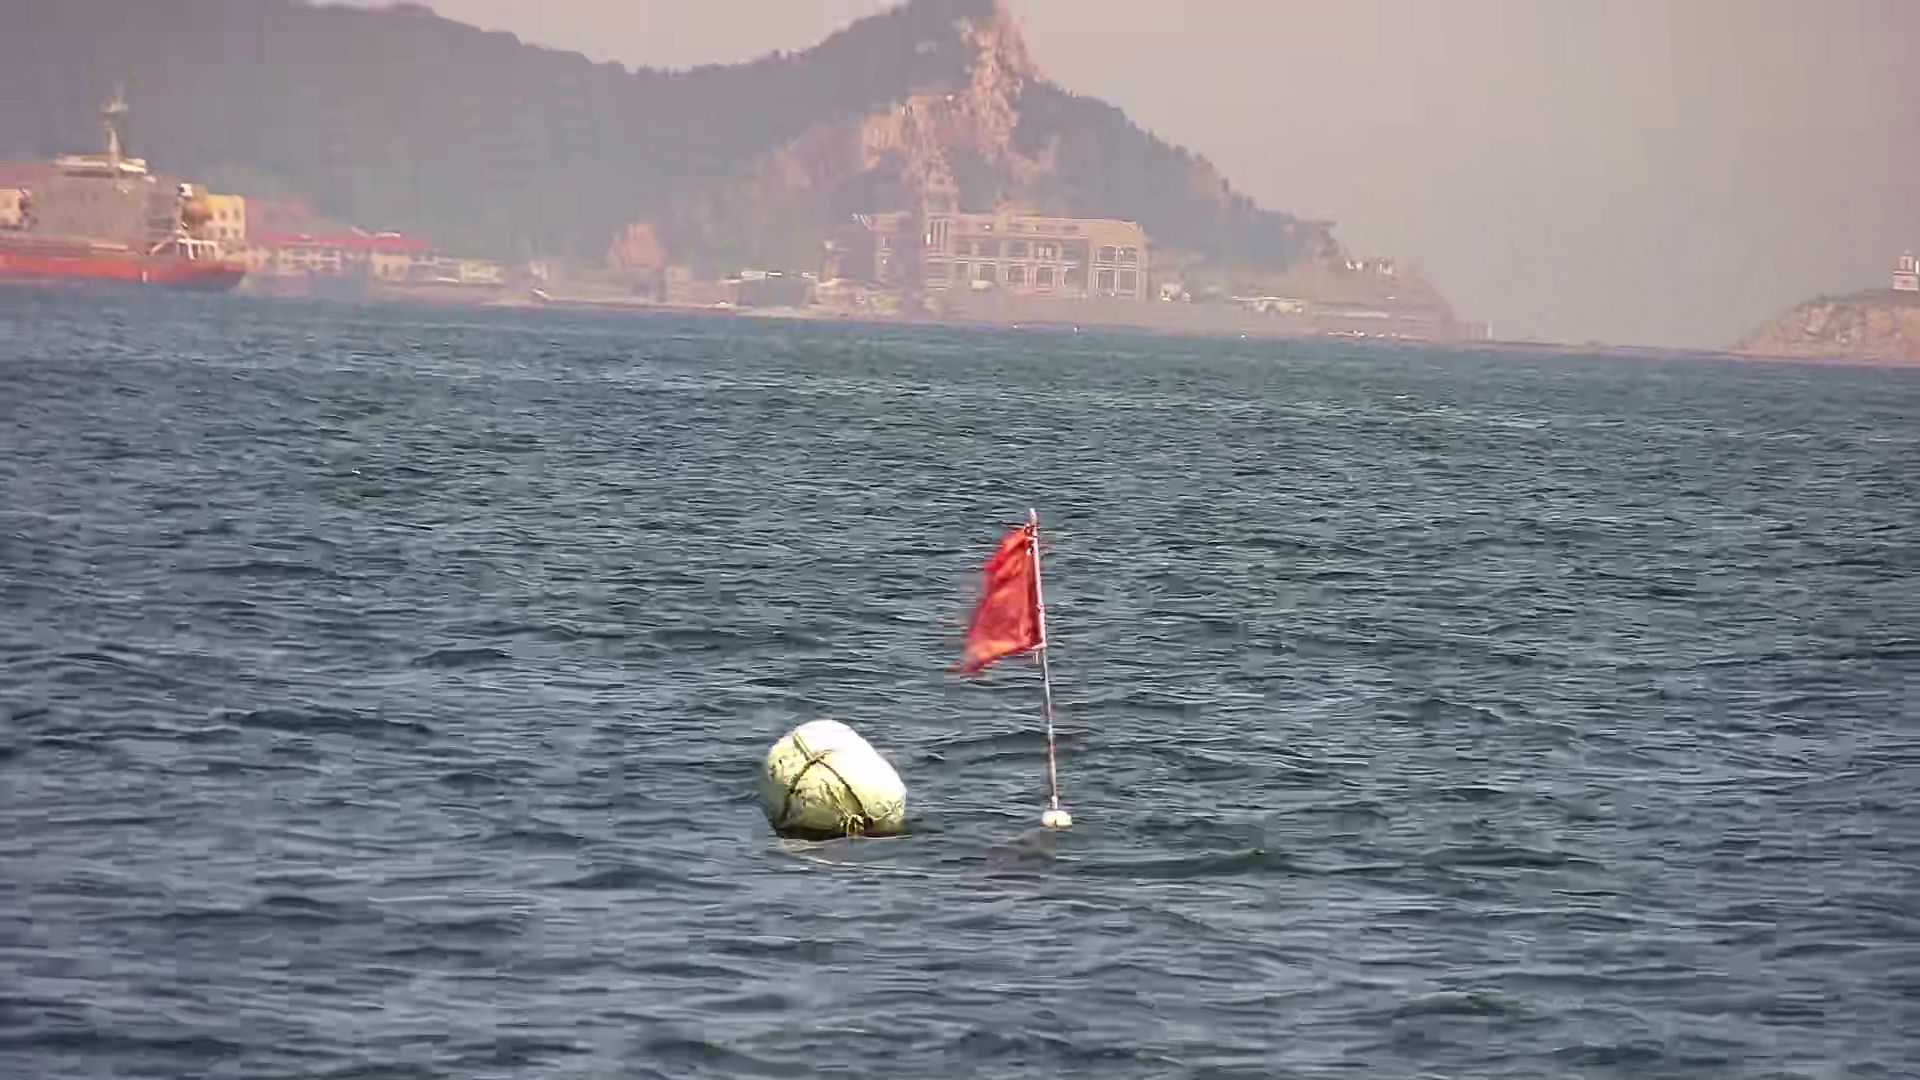mast: (940, 493, 1108, 847)
rock: (1727, 241, 1920, 368)
rubbish: (748, 708, 945, 855)
ship: (1, 102, 260, 301)
